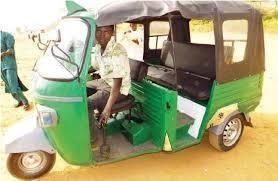keke: (16, 5, 269, 180)
